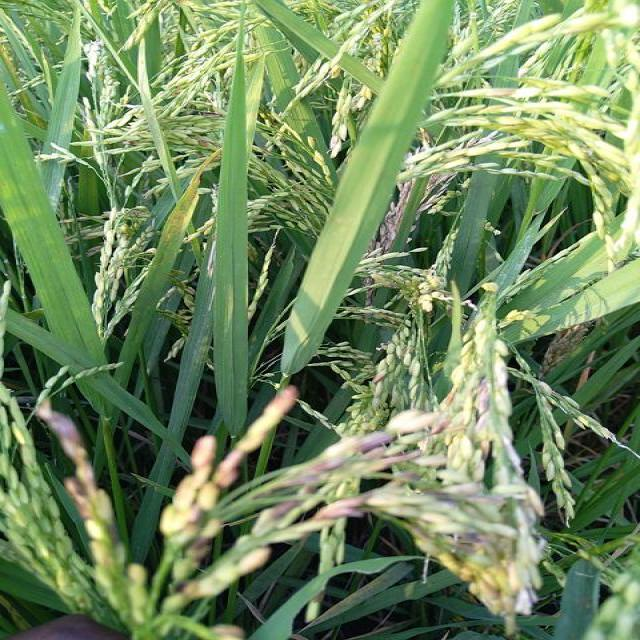Panicle Blight: (253, 482, 547, 629), (160, 386, 297, 581), (36, 407, 116, 543), (291, 410, 433, 475), (367, 181, 412, 253), (431, 380, 484, 436), (417, 176, 456, 214)
